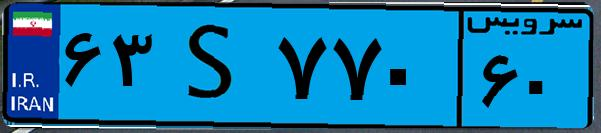0: (385, 28, 445, 110), (525, 38, 570, 115)
3: (110, 28, 158, 98)
6: (57, 26, 110, 100), (475, 38, 525, 113)
7: (270, 28, 330, 110), (330, 28, 385, 110)
S: (158, 12, 270, 120)
